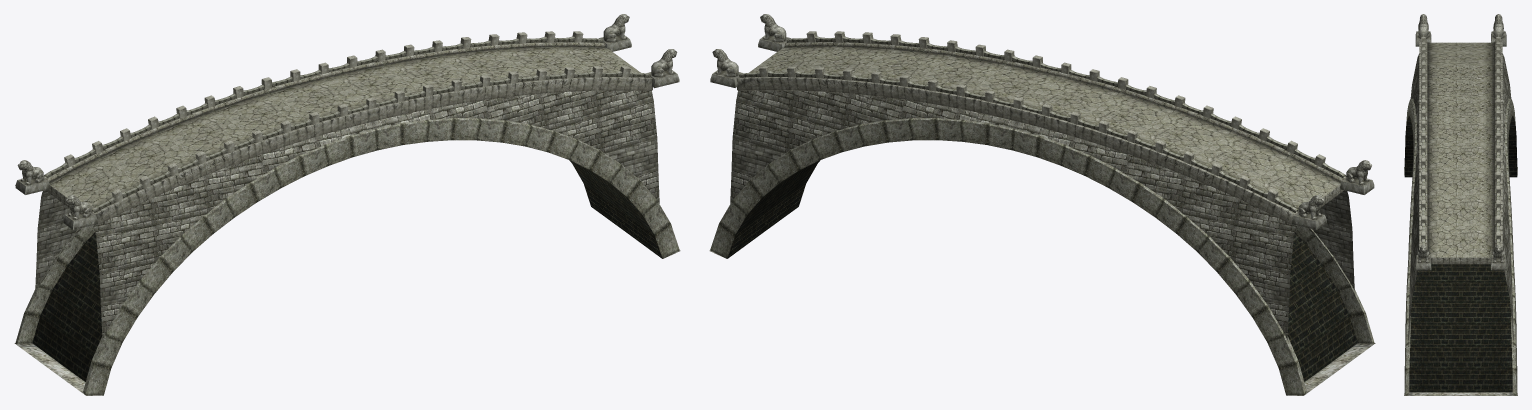
The model's file is bigstone_bridge.fbx.
3 renders of one model, left to right at view 1: azimuth 30°, elevation 25°; view 2: azimuth 150°, elevation 25°; view 3: azimuth 270°, elevation 25°, orthographic. The views are drawn at different scales.
Visible parts, largest first — view 1: bigstone_bridge; view 2: bigstone_bridge; view 3: bigstone_bridge.
Part boxes in pixels (x1,y1,x2,y2): bigstone_bridge: (14, 14, 680, 395); bigstone_bridge: (709, 14, 1375, 395); bigstone_bridge: (1404, 14, 1517, 395).
Size of the model in its own units: 77.14 by 26.51 by 15.79.
